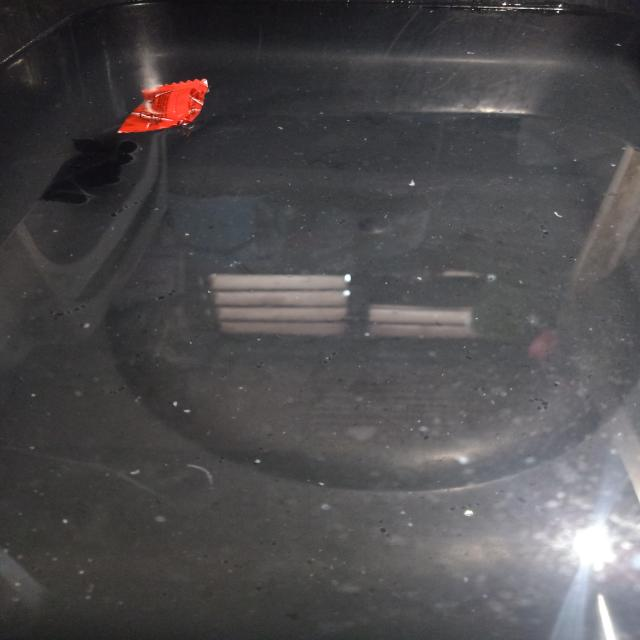Plastic Wrapper: (118, 79, 208, 133)
